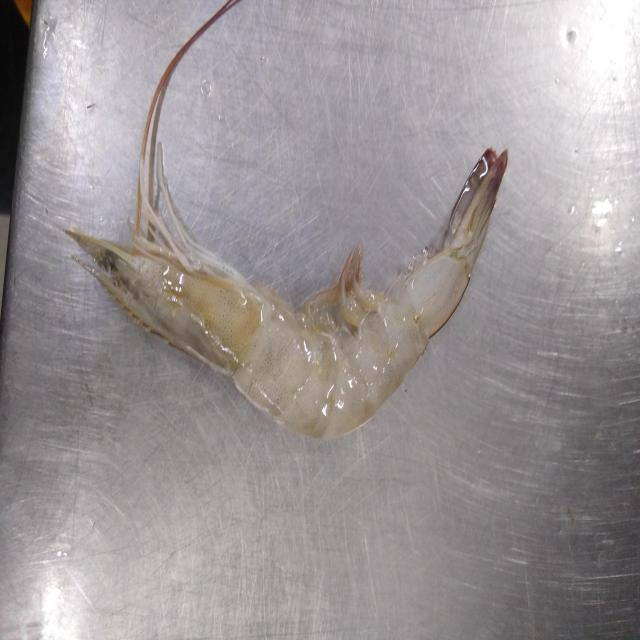shrimp: (65, 0, 509, 438)
